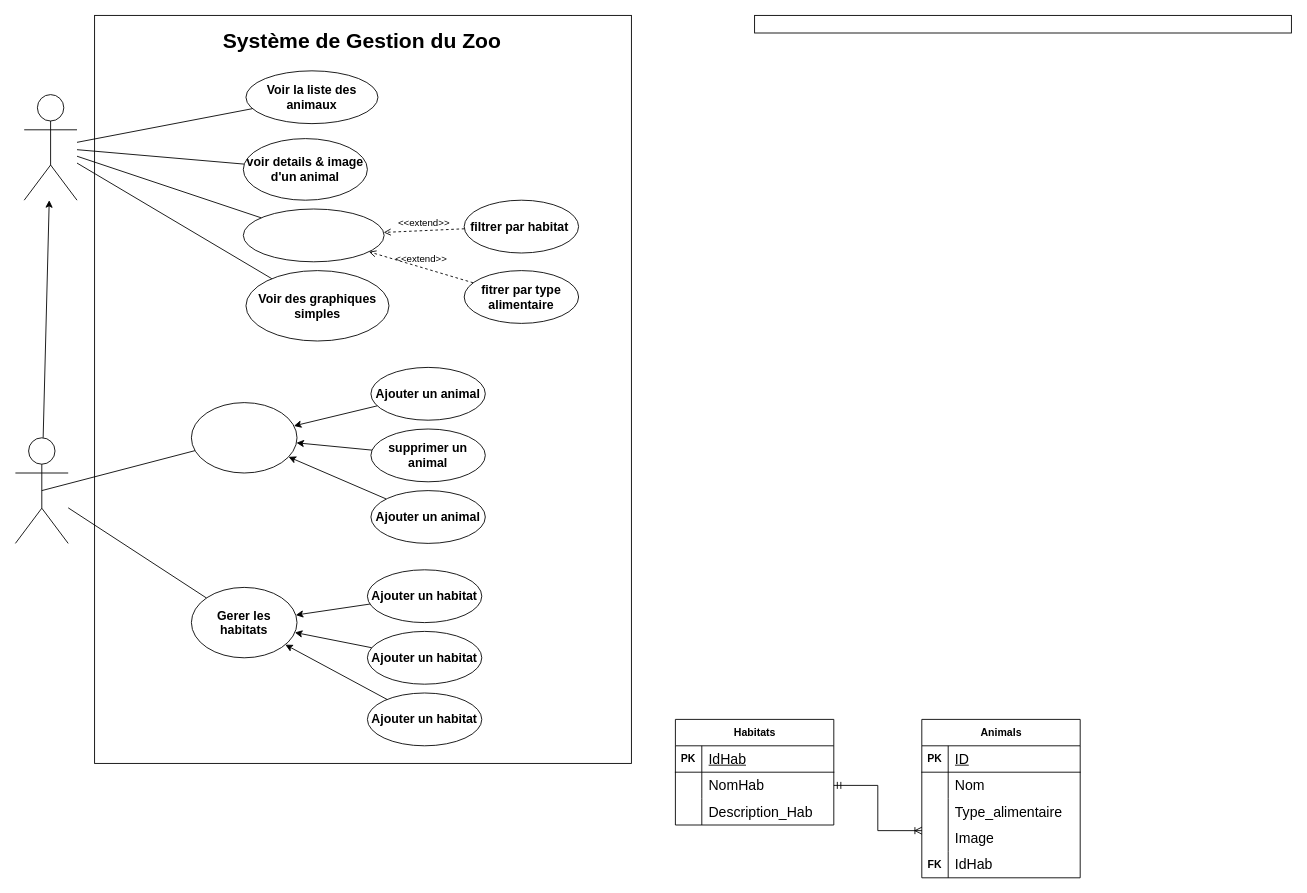
The diagram is 1307 pixels wide and 893 high, and some of its shapes have lost their labels. The centre of each missing label's shape, as x and y in pixels:
ADMIN: (41,490)
Chercher / filtrer facilement: (313,235)
Enfant: (50,147)
Gerer les animaux: (244,437)
